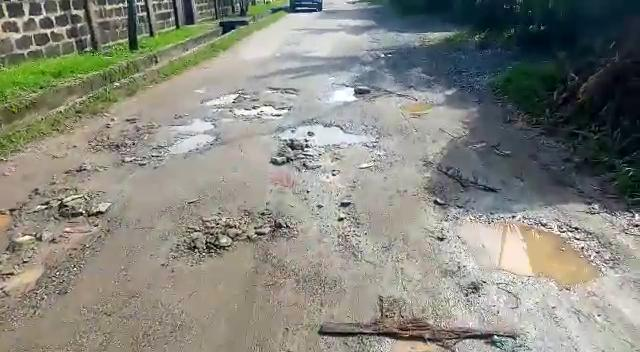pothole: (440, 213, 617, 288), (0, 199, 116, 310), (178, 210, 298, 256), (288, 120, 376, 145), (159, 130, 217, 155), (229, 103, 290, 118), (320, 79, 358, 103), (160, 118, 215, 132), (206, 91, 247, 106), (265, 85, 299, 98)
